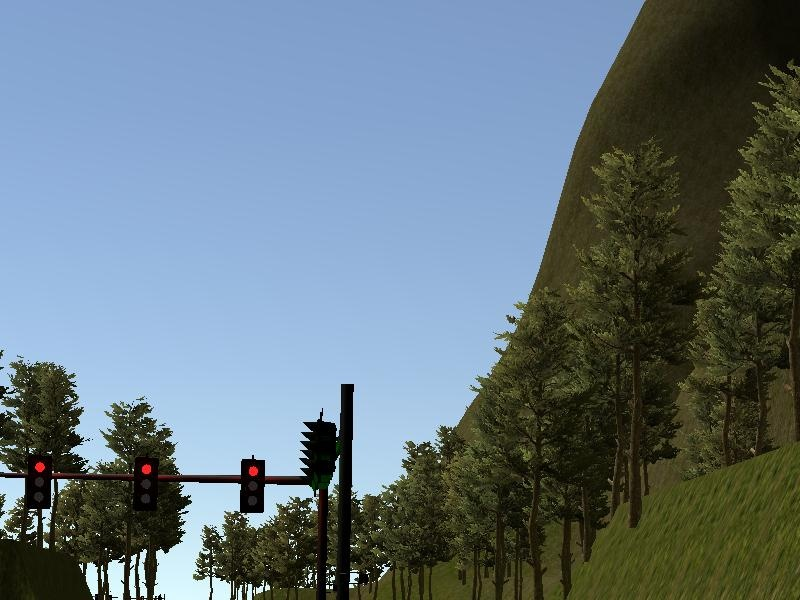Red: (239, 459, 266, 514), (26, 454, 52, 510), (133, 456, 158, 510)
